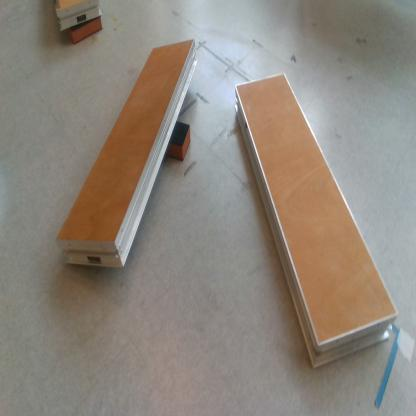Stairs: (58, 40, 198, 266), (56, 1, 103, 34)
